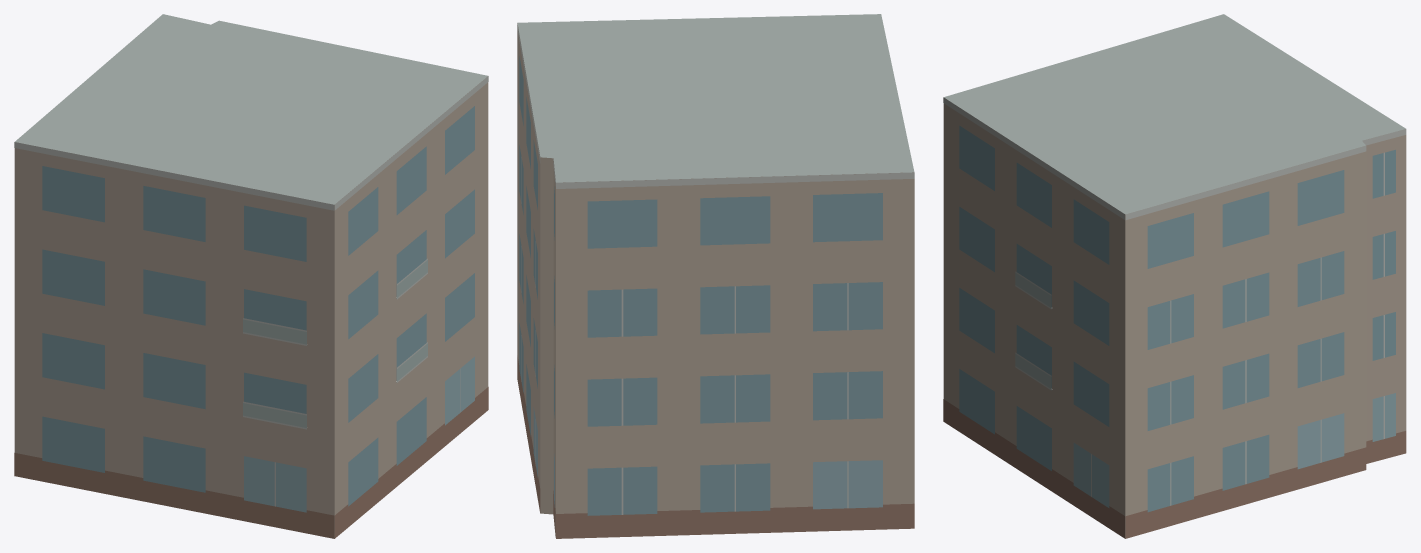
File: survey-upis-32781438.glb
3 renders of one model, left to right at view 1: azimuth 30°, elevation 25°; view 2: azimuth 150°, elevation 25°; view 3: azimuth 270°, elevation 25°, orthographic. The views are drawn at different scales.
Visible parts, largest first — view 1: survey-upis-32781438.tmp; view 2: survey-upis-32781438.tmp; view 3: survey-upis-32781438.tmp.
Part boxes in pixels (left/top/right/bottom): survey-upis-32781438.tmp: left=14, top=14, right=488, bottom=538; survey-upis-32781438.tmp: left=517, top=14, right=914, bottom=538; survey-upis-32781438.tmp: left=943, top=14, right=1406, bottom=538.
Size of the model in its own units: 17.9 by 13.5 by 17.47.
